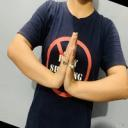hand: (50, 31, 76, 89), (65, 33, 75, 96)
